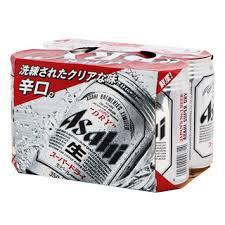beer: (8, 38, 216, 194)
